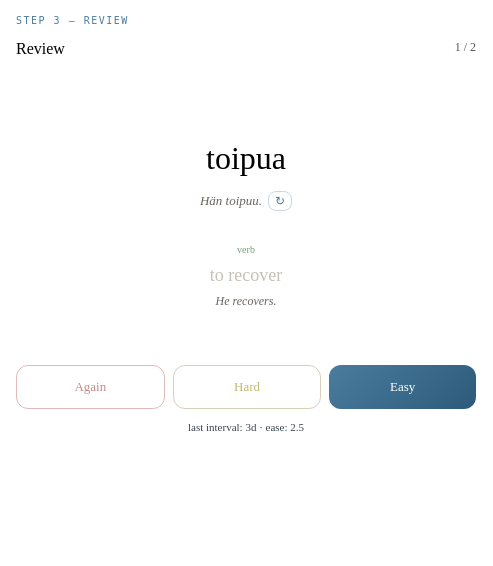
Scenario: ReviewStage – example suggestions › says so when no example came back
What coordinates should you click on to do the following:
click the button named "suggest a different example"
I would click on:
 (280, 200)
Its box is [268,190,292,210].
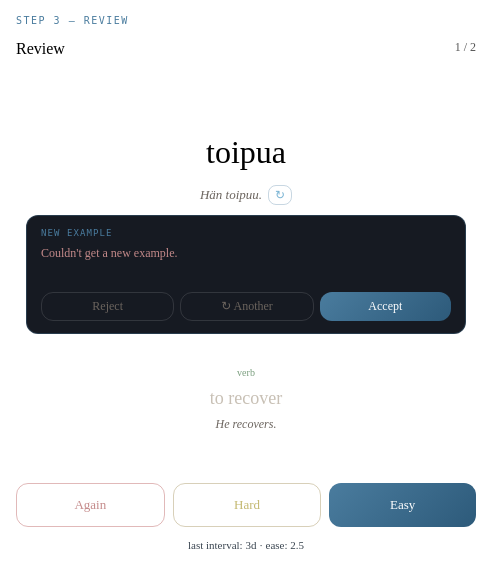
Result: the message shows "Couldn't get" at [41,246,178,260]
Result: the button "Accept" is disabled at [320,292,451,321]
